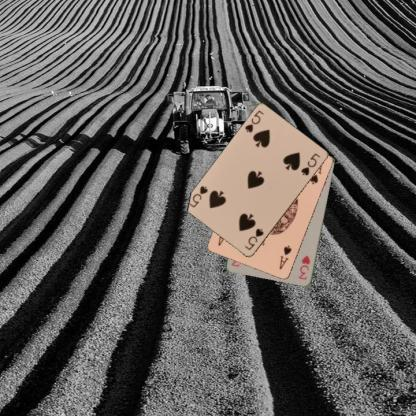3h: (296, 252, 312, 282)
5s: (242, 226, 265, 252), (242, 108, 265, 134)
As: (277, 242, 293, 272)
